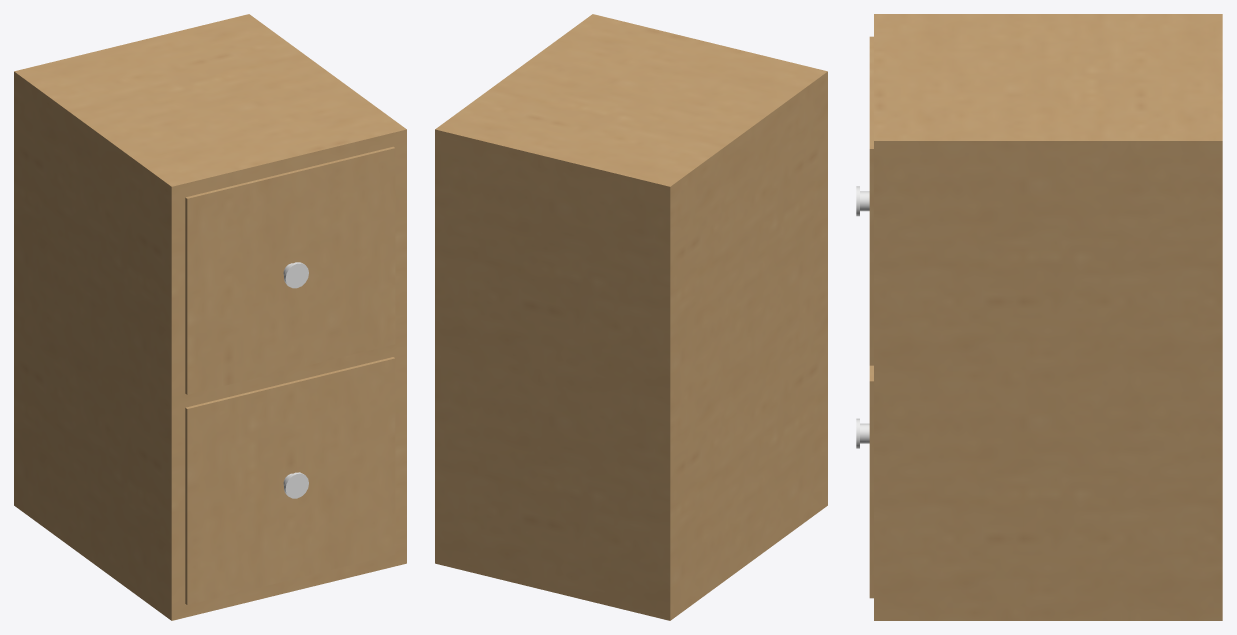
File: Drawer09.fbx
The picture shows the model from 3 angles, left to right: view 1: azimuth 30°, elevation 25°; view 2: azimuth 150°, elevation 25°; view 3: azimuth 270°, elevation 25°; orthographic projection. The views are drawn at different scales.
Parts seen in each view (by area): view 1: Drawer_Body09, Drawer09_1, Drawer09_2; view 2: Drawer_Body09; view 3: Drawer_Body09, Drawer09_1, Drawer09_2.
Boxes of the visible parts, x1,y1,x2,y2 form: Drawer_Body09: (14, 14, 406, 620); Drawer09_1: (185, 146, 395, 394); Drawer09_2: (185, 357, 395, 604); Drawer_Body09: (435, 14, 827, 620); Drawer_Body09: (874, 14, 1222, 620); Drawer09_1: (856, 36, 873, 365); Drawer09_2: (856, 365, 873, 598).
Size of the model in its own units: 25.21 by 44.45 by 30.75.
